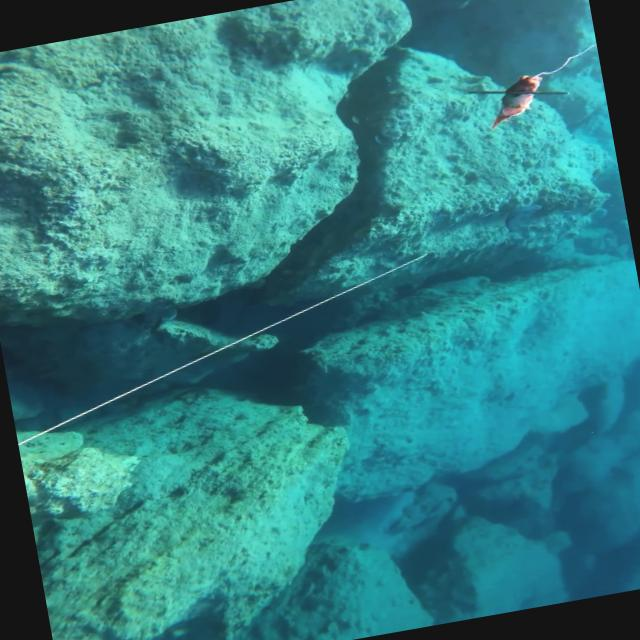Balon Baligi: (502, 203, 546, 234)
